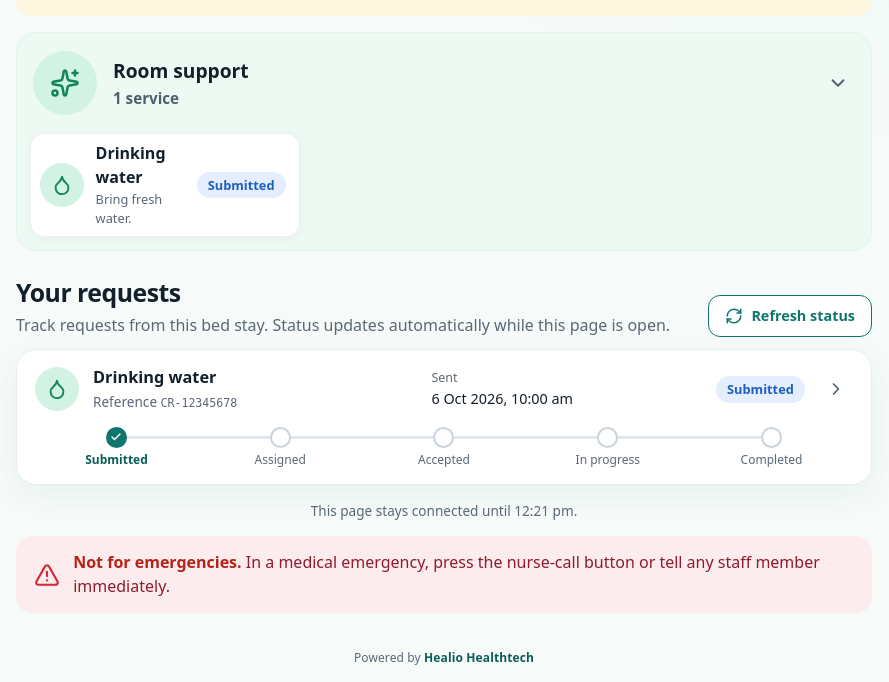
Test: Patient request flow › asks before cancellation and updates the status after confirmation
(page scrolled)
Expected: the button "Cancel request" is not shown
Click the button named "Show request details" at {"x": 836, "y": 389}, box [819,372,853,406]
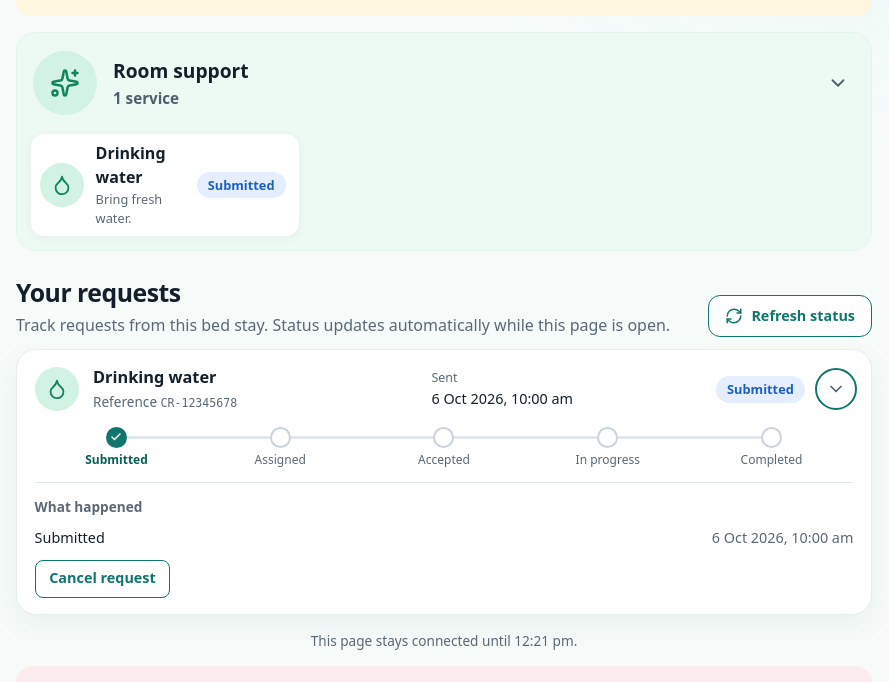
Click the button "Cancel request" at {"x": 102, "y": 579}, box [35,560,170,598]
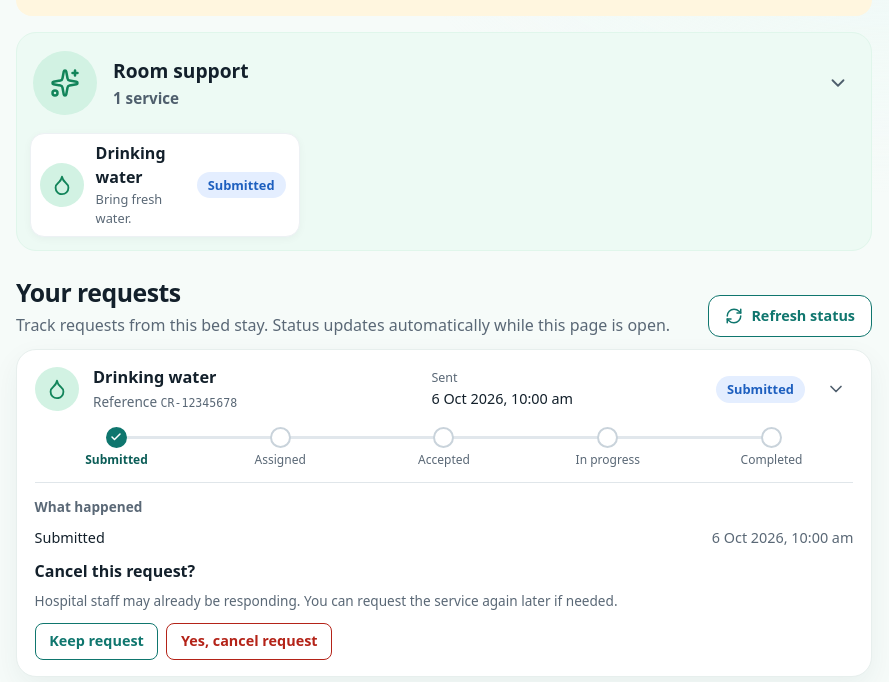
Click the button "Yes, cancel request" at {"x": 249, "y": 642}, box [166,623,332,660]
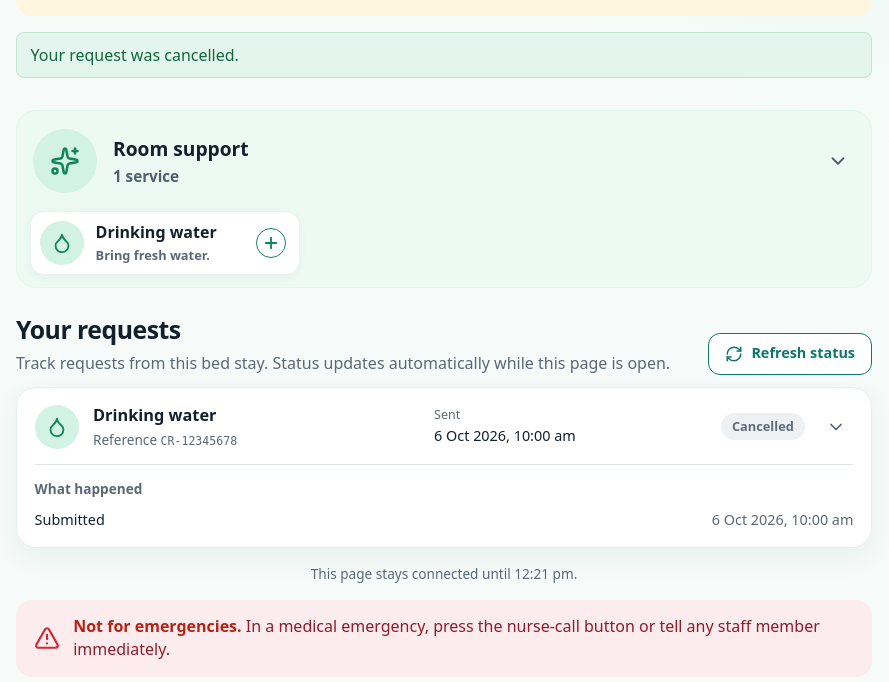
Expected: the button with aria-label "Request Drinking water" is shown, [30,211,300,275]
Now the text "Cancelled" is shown, box [721,413,805,440]
Now the button "cancel request" is gone
